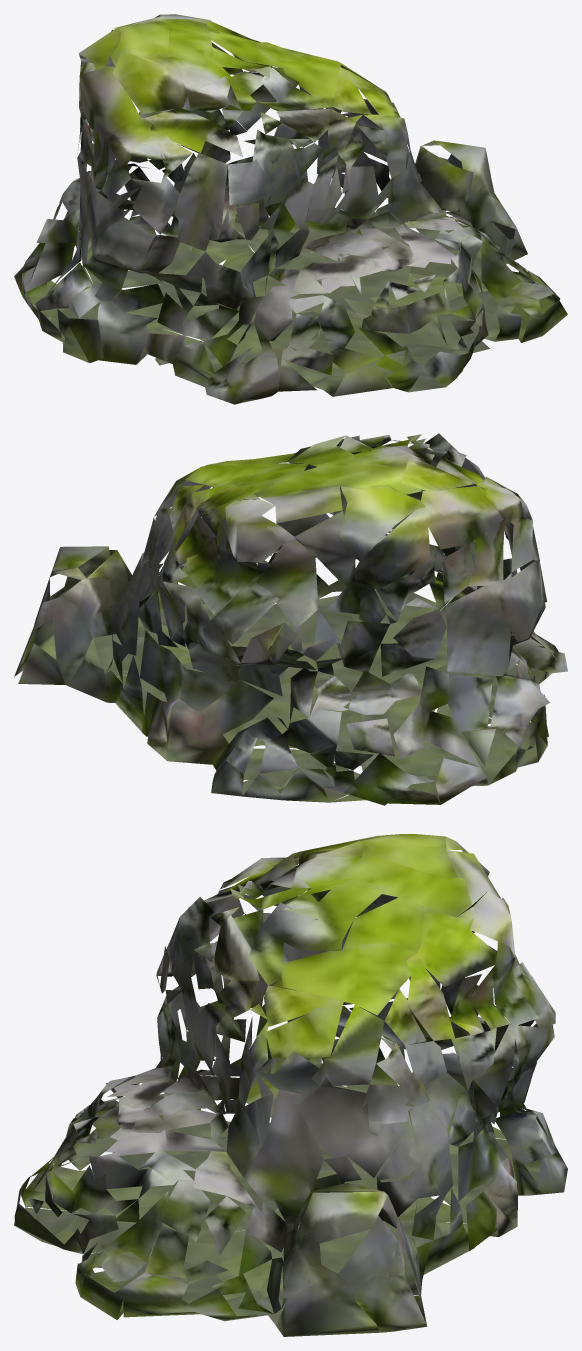
Rendered from rock_town.glb.
The picture shows the model from 3 angles, top to bottom: view 1: azimuth 30°, elevation 25°; view 2: azimuth 150°, elevation 25°; view 3: azimuth 270°, elevation 25°; orthographic projection. The views are drawn at different scales.
Parts seen in each view (by area): view 1: rock; view 2: rock; view 3: rock.
Boxes of the visible parts, x1,y1,x2,y2 form: rock: (14,14,567,404); rock: (14,433,567,805); rock: (14,834,567,1336).
Size of the model in its own units: 1.9 by 1.05 by 1.71.
1 material, 1 textured.
